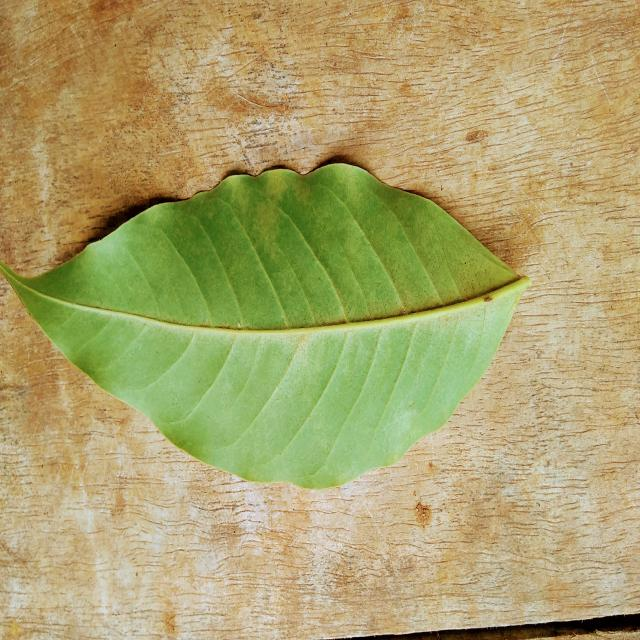sampige: (0, 164, 530, 489)
